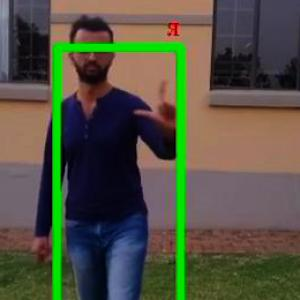land_hand: (121, 75, 180, 143)
